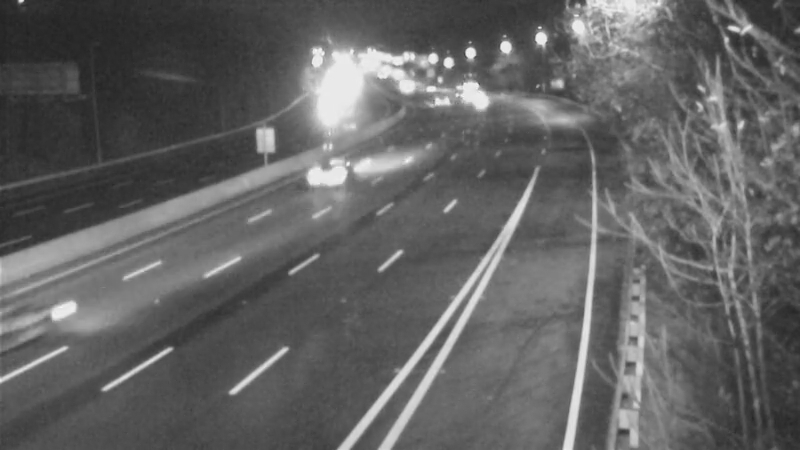vehicle: (1, 264, 90, 374), (284, 132, 364, 212), (451, 77, 501, 127), (416, 74, 466, 124), (299, 88, 349, 138)
